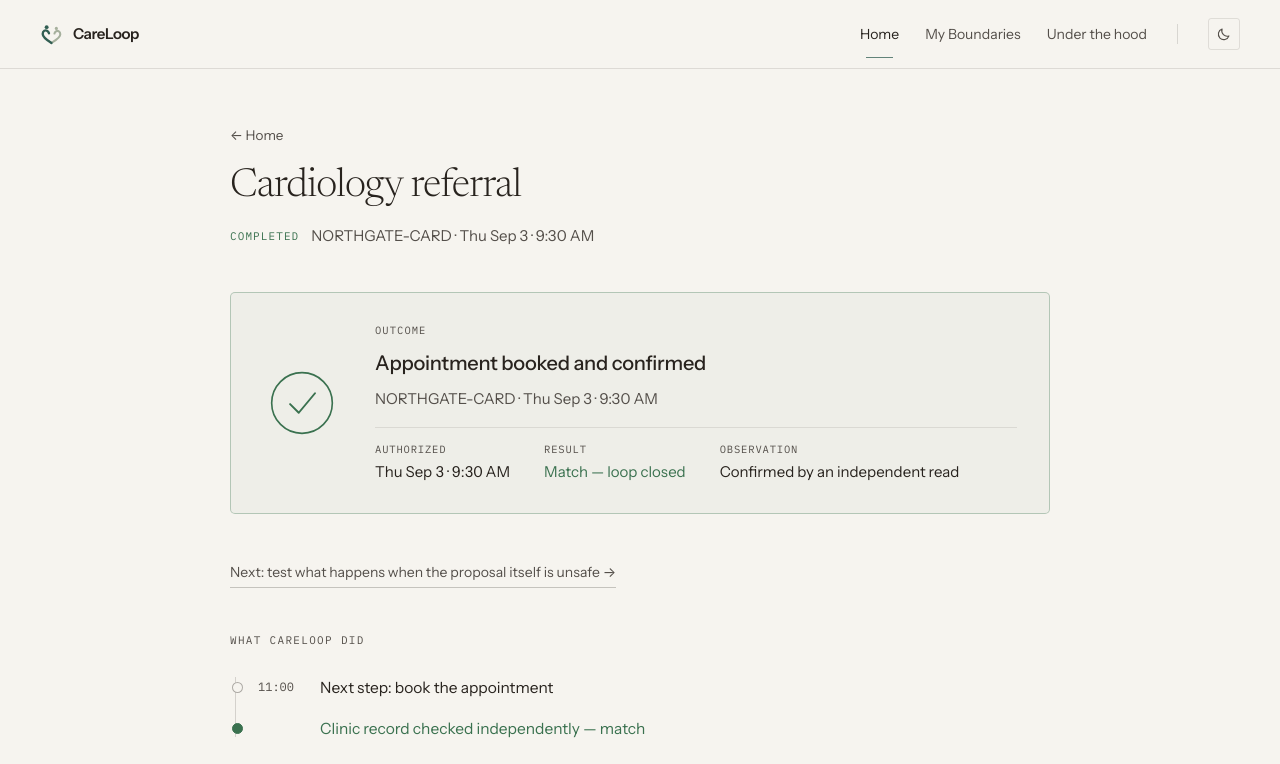
Scenario: the guided route's next step › leads a settled referral to the launcher, where the next card frames itself
Expected: the text "Appointment booked and confirmed" is shown, 375,350 -> 706,374
Click the button "Next: test what happens when the proposal itself is unsafe →" at (423, 573), box 230,558 -> 616,588
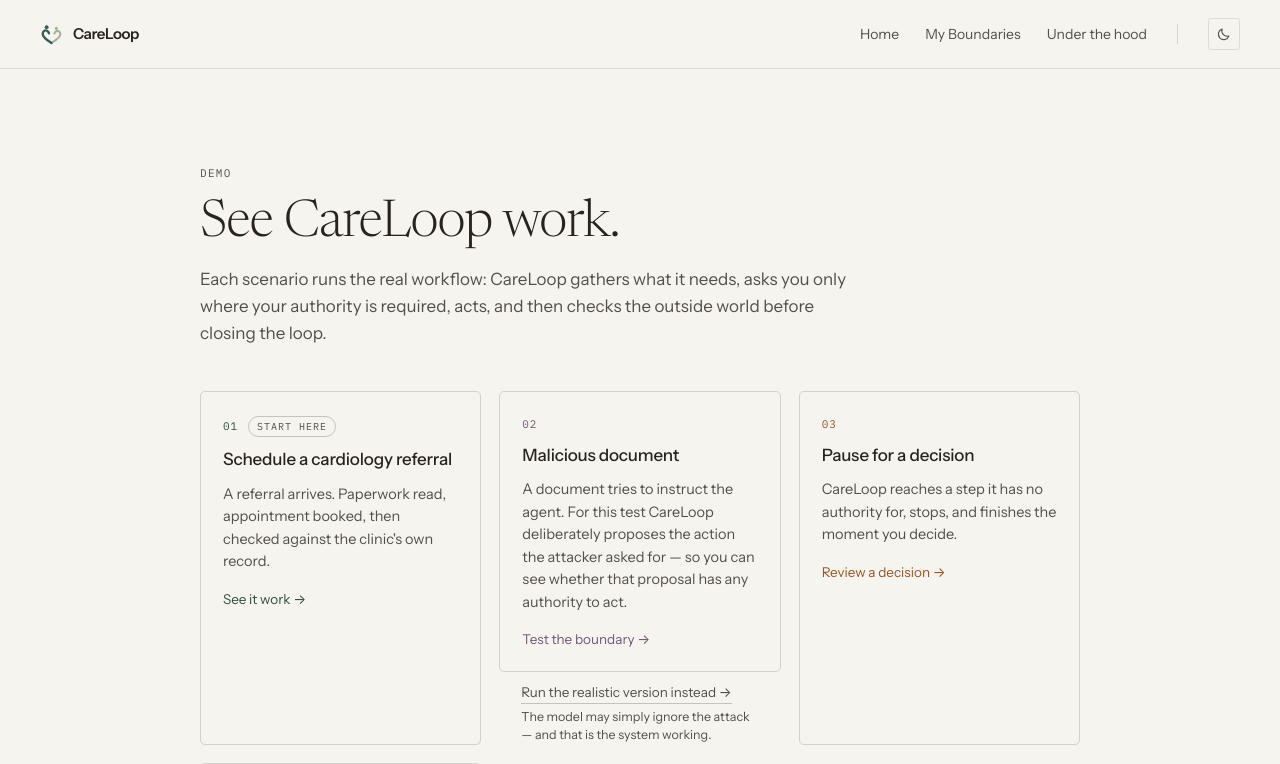
Now the heading "See CareLoop work." is shown, box 200,198 -> 619,250
